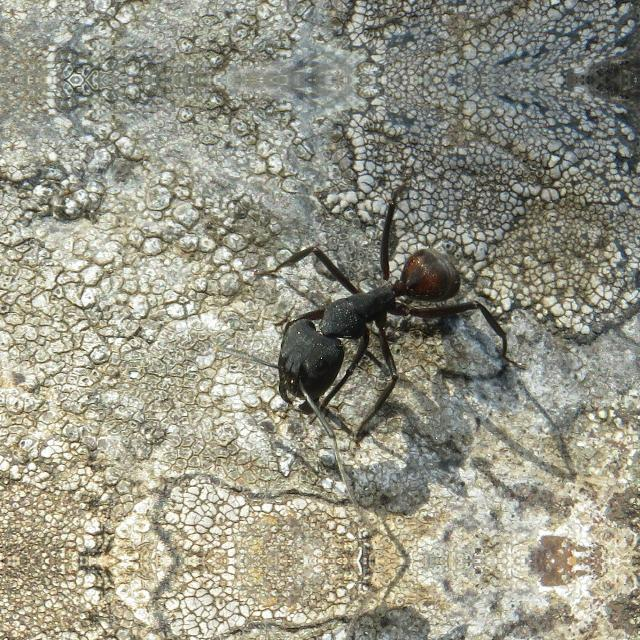Camponotus: (226, 214, 497, 430)
